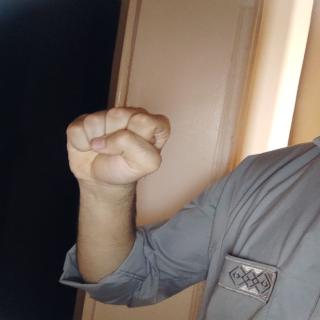SAD: (58, 102, 175, 197)
